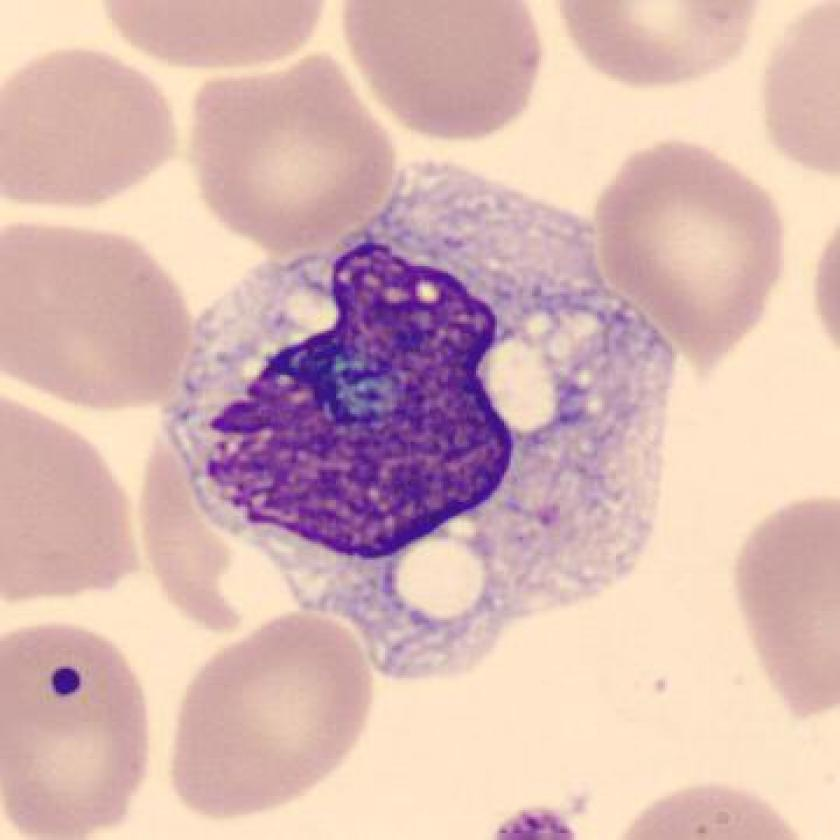monocyte: (146, 142, 701, 707)
